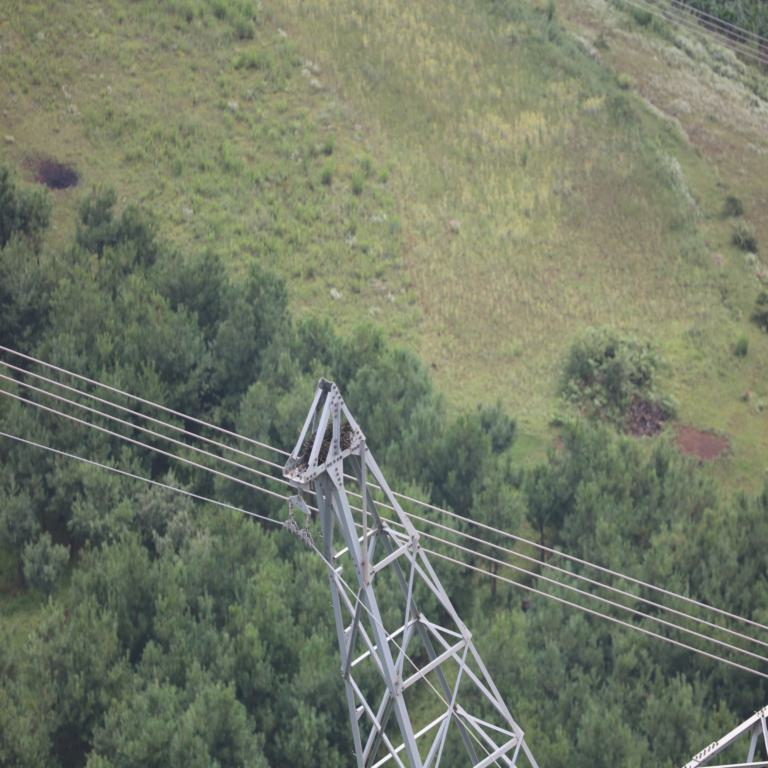nest: (304, 431, 355, 460)
